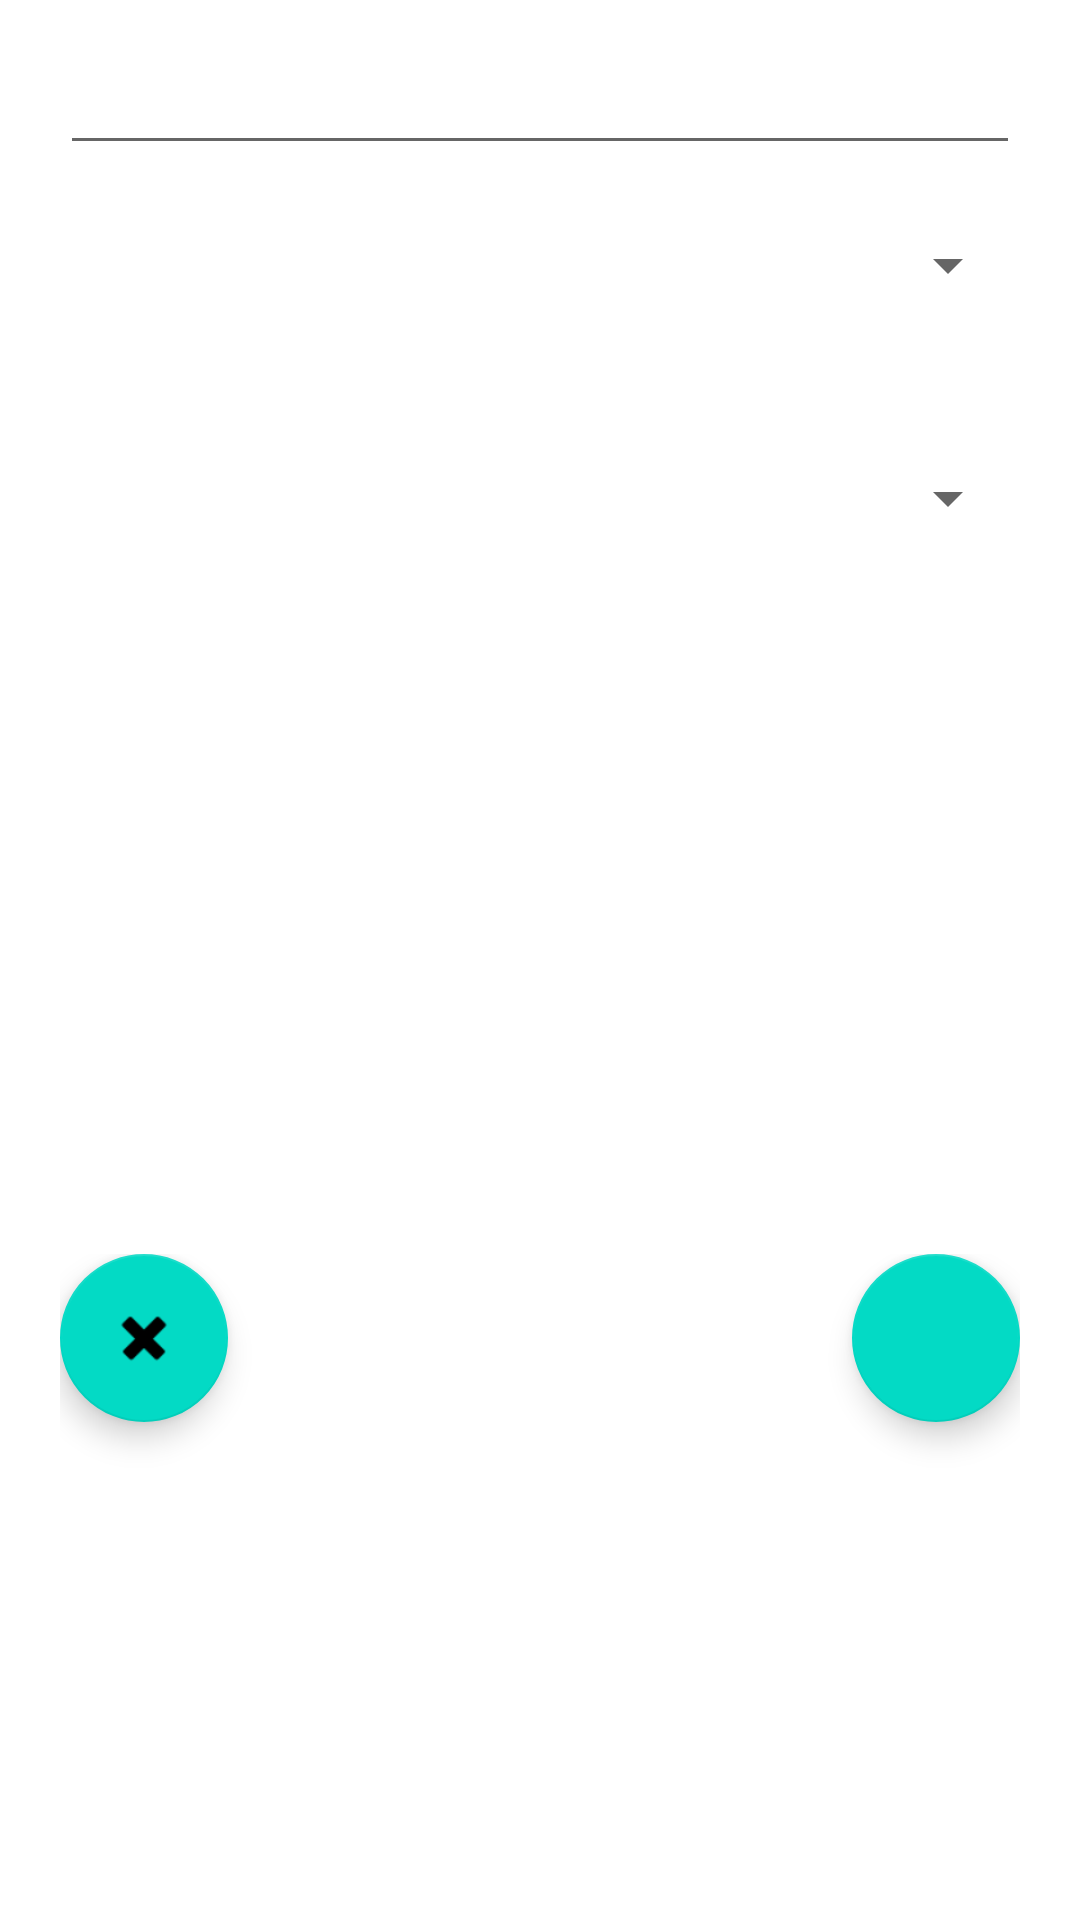

Icons on this 1080x1920 Android screen, each with the point to tap as [x,y]:
delete: [144,1338]
